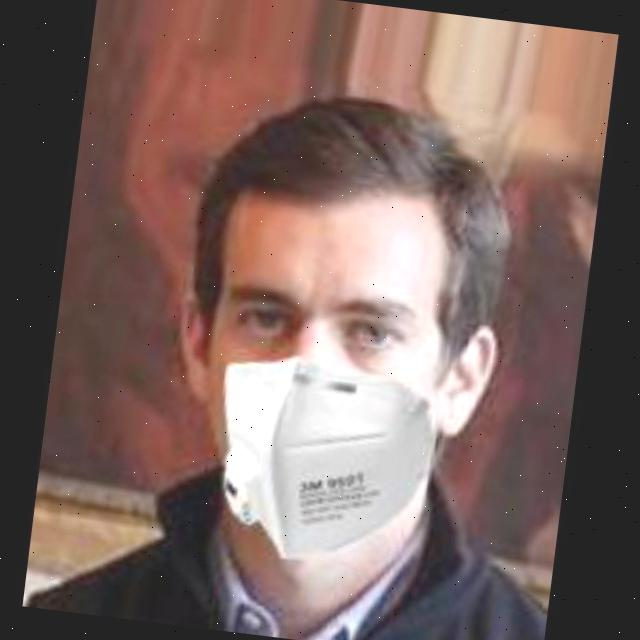suspicion: (160, 126, 524, 552)
